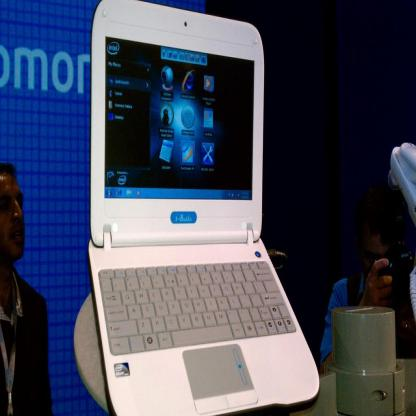board: (90, 0, 320, 415)
